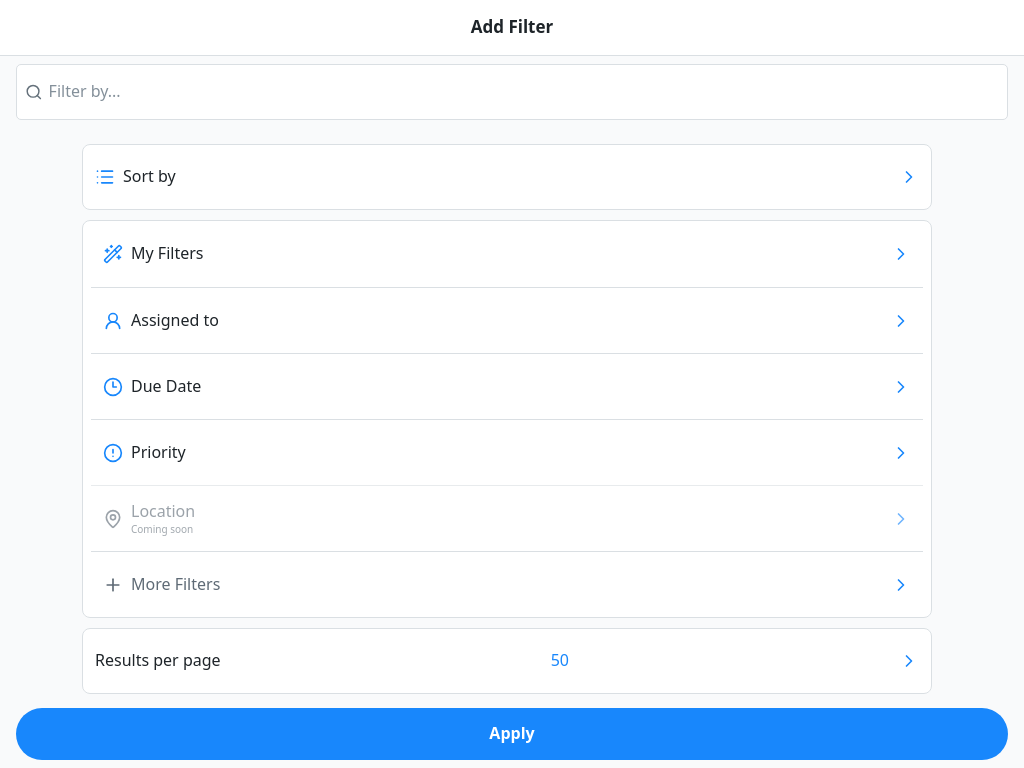
Test: Work Order filter page › shows user avatars and team icons in the Assigned to options
Click the button "Assigned to".
click(175, 320)  # box [91,287,923,353]
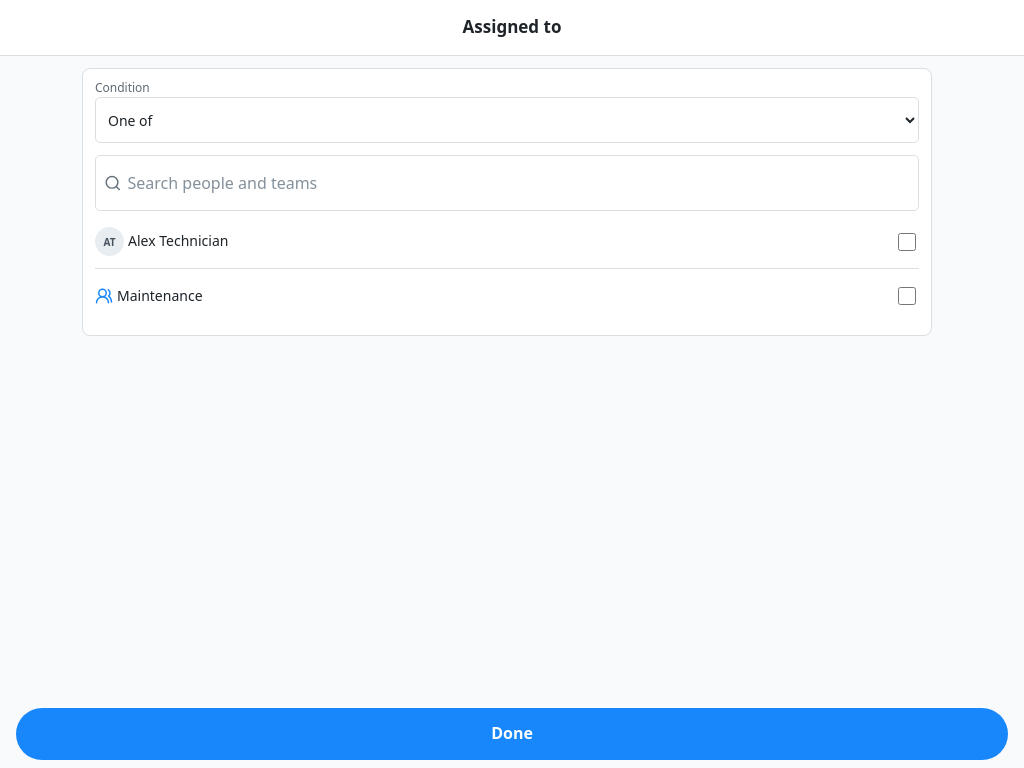
Expected: the text with class "work-order-filter-page-assignee-avatar" reads "AT", [104,235,116,249]
Now the icon with class "work-order-filter-page-assignee-team-icon" is shown, box [95,287,113,305]
